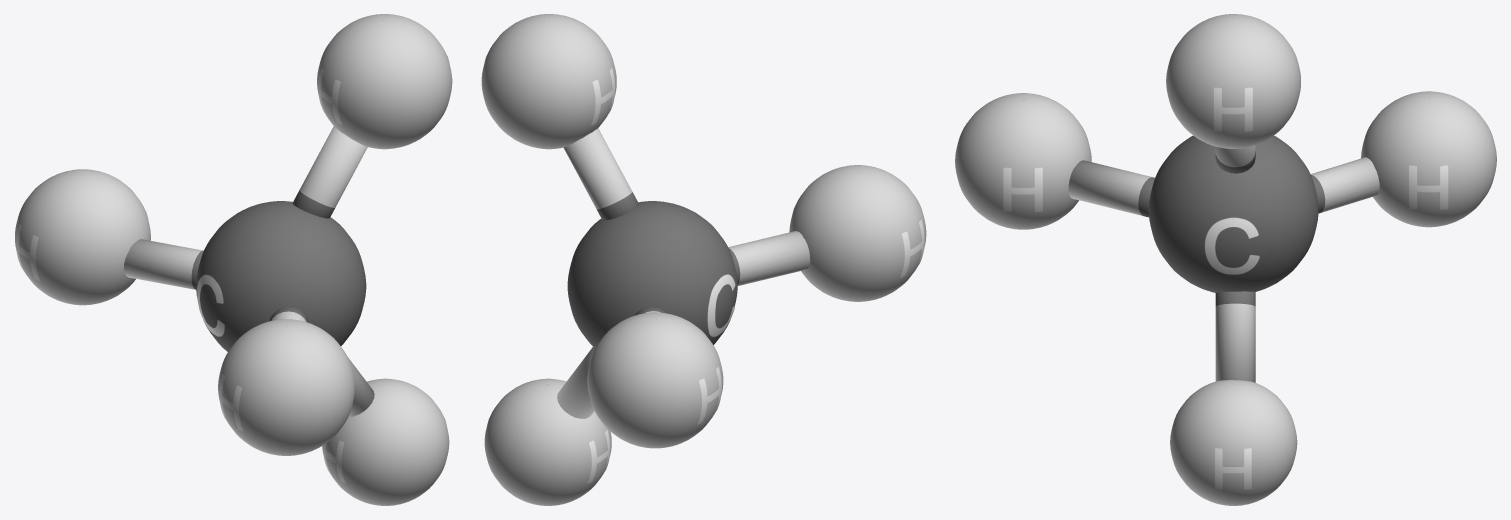
Rendered from metano.glb.
3 views of the same model, side by side, from view 1: azimuth 30°, elevation 25°; view 2: azimuth 150°, elevation 25°; view 3: azimuth 270°, elevation 25° (orthographic).
Parts seen in each view (by area): view 1: Mol molde 12; view 2: Mol molde 12; view 3: Mol molde 12.
Boxes of the visible parts, x1,y1,x2,y2 form: Mol molde 12: [15, 14, 452, 505]; Mol molde 12: [481, 14, 926, 505]; Mol molde 12: [955, 14, 1496, 505].
Size of the model in its own units: 0.6666 by 0.9511 by 0.9741.
2 materials, 2 textured.
